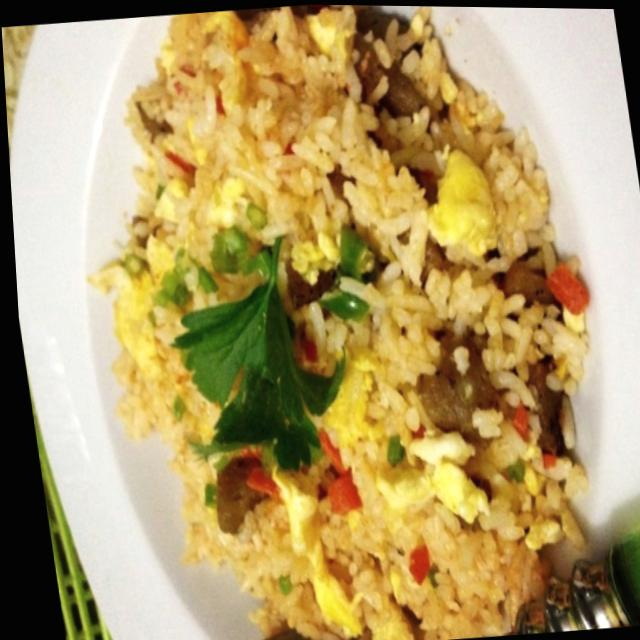米饭主食: (20, 0, 640, 640)
